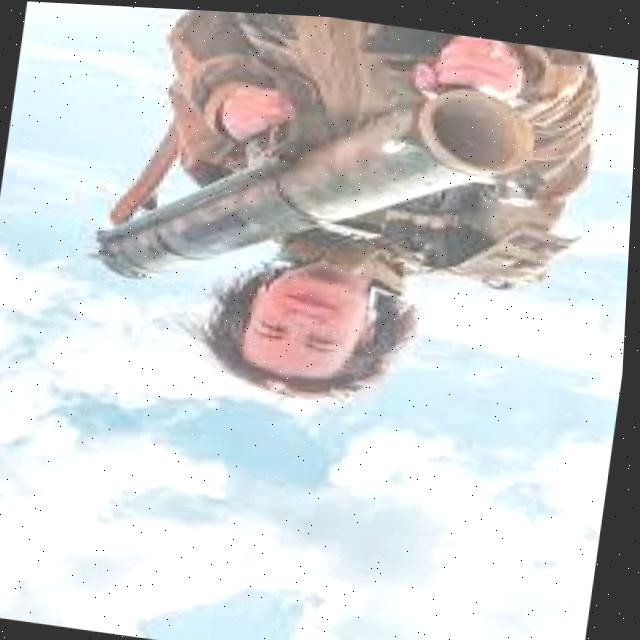rocket: (83, 38, 542, 334)
